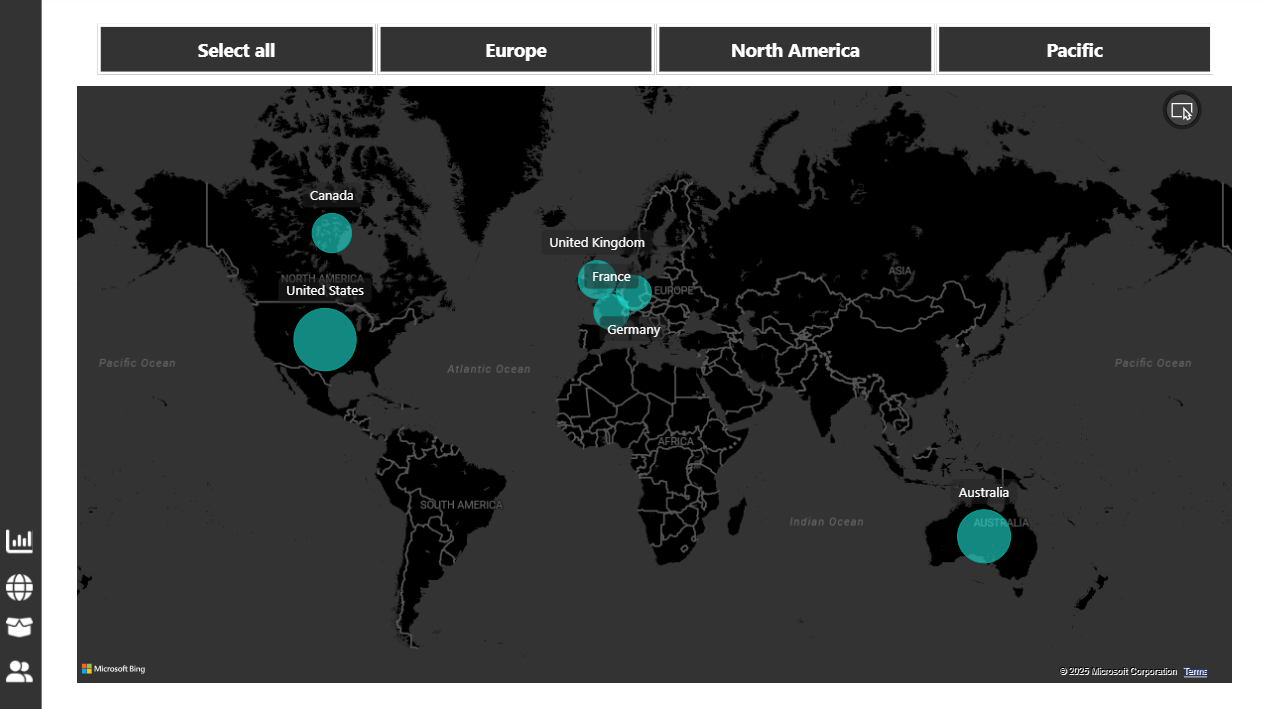

The page's visual inventory and layout, read from the dashboard file:
{"tool":"powerbi","page":{"name":"Map","canvas":[1280,720],"ordinal":1},"visuals":[{"type":"shape","box":[0,0,45,720],"z":0},{"type":"actionButton","box":[5.4,531.9,35,35],"z":0,"group":"g1"},{"type":"map","fields":{"Category":["Territory Lookup.Country"],"Size":["Measure Table.Total Orders"]},"box":[75.5,86,1174.3,612.1],"z":1000},{"type":"actionButton","box":[5.4,578.5,35,35],"z":1000,"group":"g1"},{"type":"slicer","fields":{"Values":["Territory Lookup.Continent"]},"box":[75.5,20.9,1174.3,65],"z":2000},{"type":"actionButton","box":[5.4,618.8,35,35],"z":2000,"group":"g1"},{"type":"group","id":"g1","title":"Navigation Buttons","box":[5.4,531.9,35,165.7],"z":3000},{"type":"actionButton","box":[5.4,662.6,35,35],"z":3000,"group":"g1"}]}

Visuals, with their boxes on the page's 1280x720 design canvas (x1, y1, x2, y2). These are canvas units, not pixel positions in the 1266x709 screenshot, which may show the page scaled, cropped or inside an application window:
shape: left=0, top=0, right=45, bottom=720
actionButton: left=5, top=532, right=40, bottom=567
map - Territory Lookup.Country x Measure Table.Total Orders: left=76, top=86, right=1250, bottom=698
actionButton: left=5, top=578, right=40, bottom=614
slicer - Territory Lookup.Continent: left=76, top=21, right=1250, bottom=86
actionButton: left=5, top=619, right=40, bottom=654
"Navigation Buttons" group: left=5, top=532, right=40, bottom=698
actionButton: left=5, top=663, right=40, bottom=698
